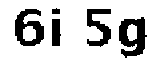5: (73, 4, 114, 52)
6: (6, 4, 46, 55)
g: (117, 15, 150, 60)
i: (50, 4, 68, 50)
